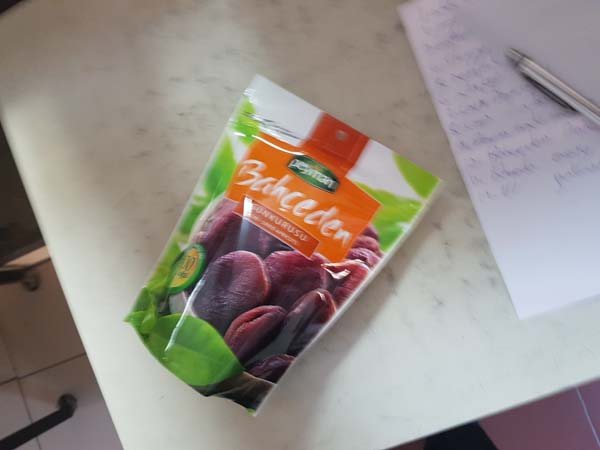bahcedengunkurusu: (123, 73, 447, 411)
